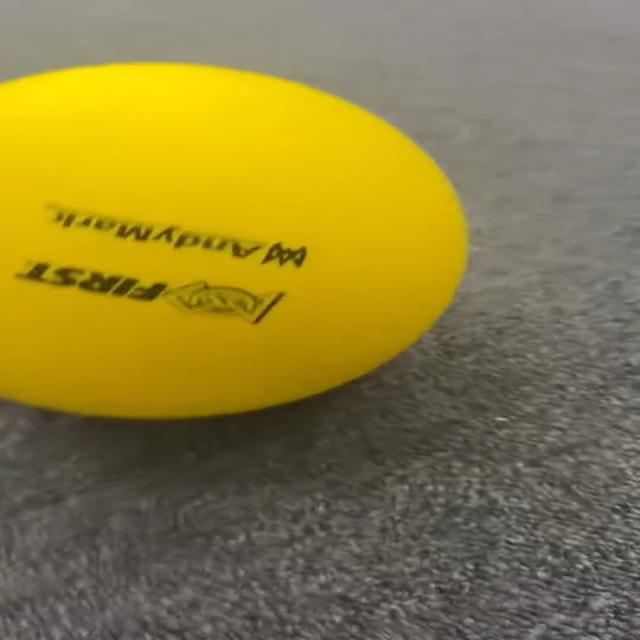Fuels: (1, 64, 464, 415)
